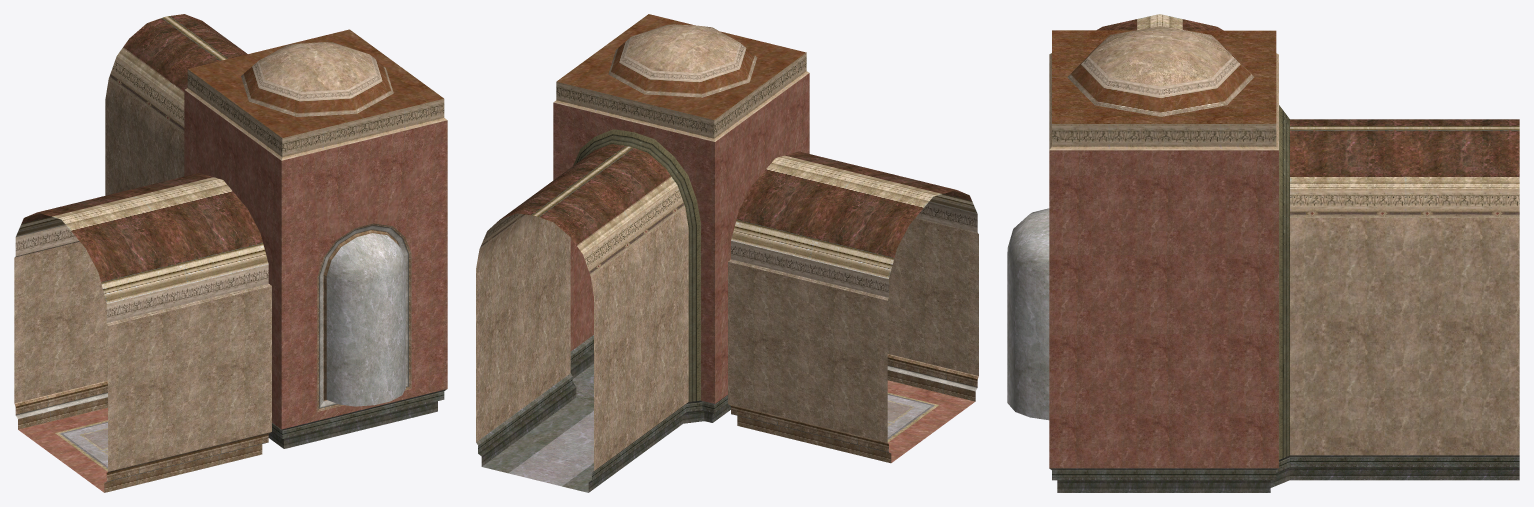
The model's file is thm_nboo_thed_theed_palace_r15_mesh_r15.fbx.
3 views of the same model, side by side, from view 1: azimuth 30°, elevation 25°; view 2: azimuth 150°, elevation 25°; view 3: azimuth 270°, elevation 25° (orthographic). The views are drawn at different scales.
Visible parts, largest first — view 1: mesh_node; view 2: mesh_node; view 3: mesh_node.
Part boxes in pixels (bbox=[...]): mesh_node: bbox=[14, 14, 447, 492]; mesh_node: bbox=[476, 14, 978, 492]; mesh_node: bbox=[1007, 14, 1519, 492].
Bounding box in the file's own units: 16.77 × 16.38 × 18.52.
